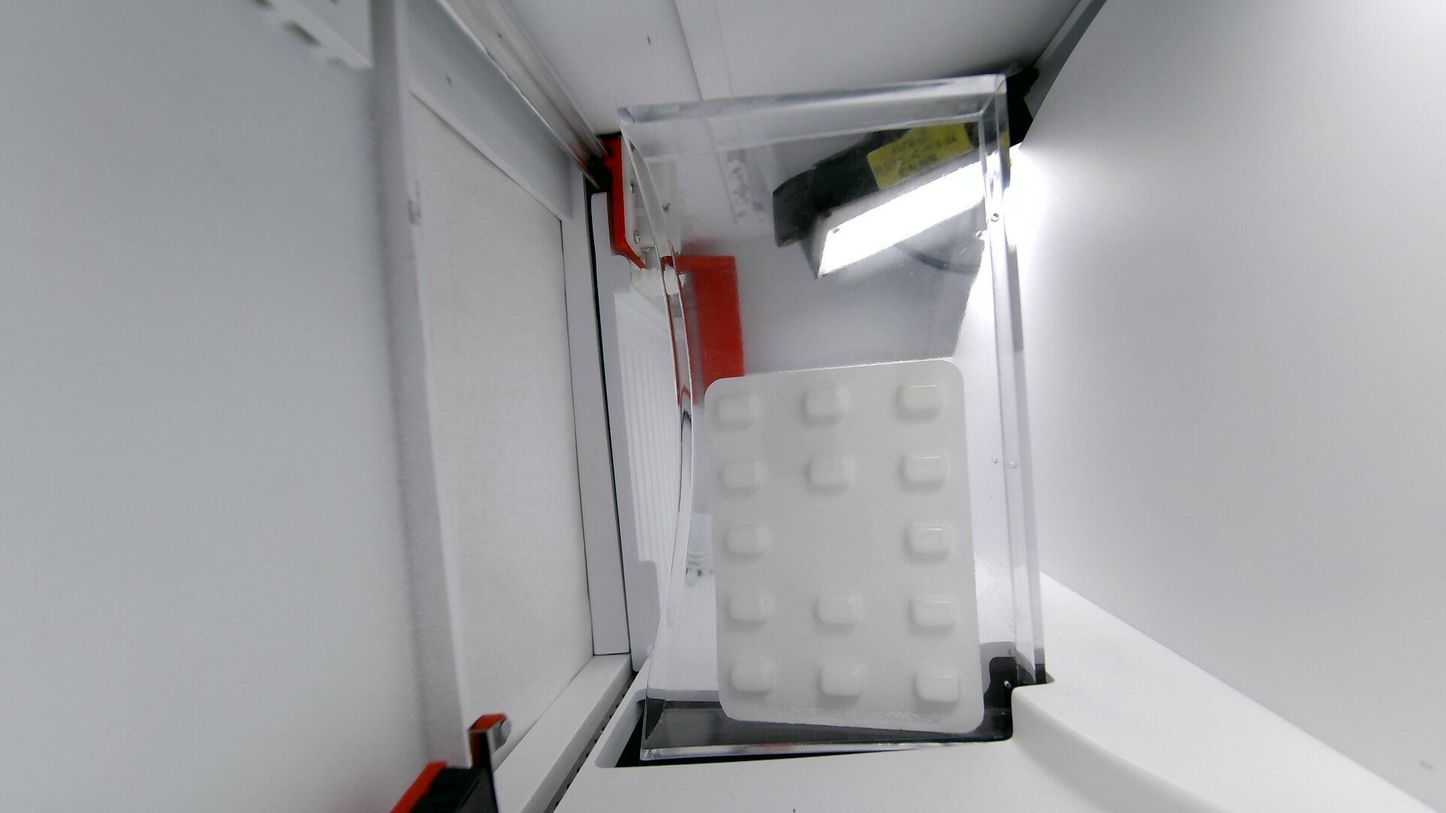Light Front: (704, 360, 984, 733)
Pill Front: (900, 433, 955, 488), (814, 591, 874, 631), (801, 381, 851, 425), (819, 655, 868, 699), (914, 665, 960, 710), (904, 519, 953, 560), (719, 458, 771, 495), (730, 656, 776, 695), (807, 452, 855, 489), (724, 525, 772, 561), (910, 595, 956, 632), (728, 589, 775, 625), (897, 382, 944, 416), (715, 393, 762, 425)
